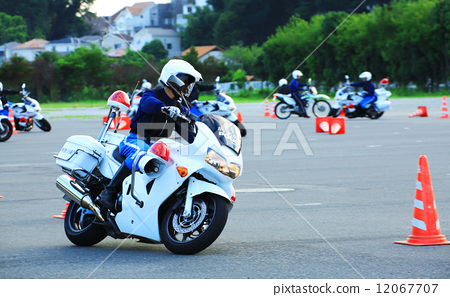helmet: (164, 56, 205, 101)
